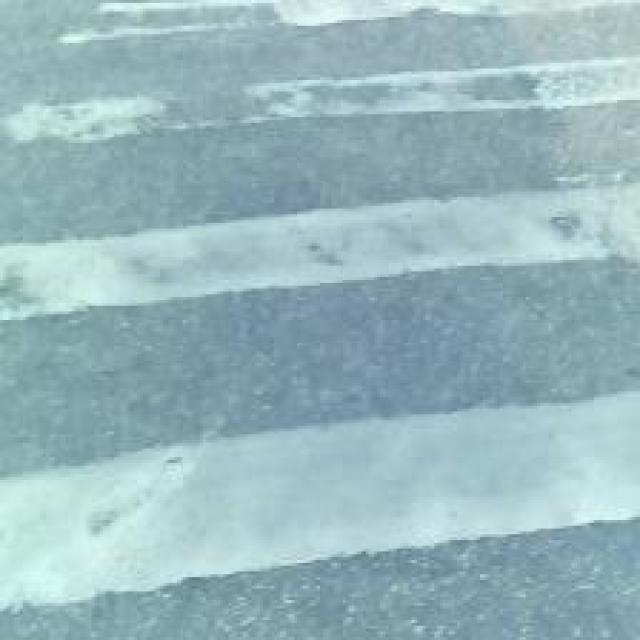walk-crossing: (61, 4, 616, 599)
